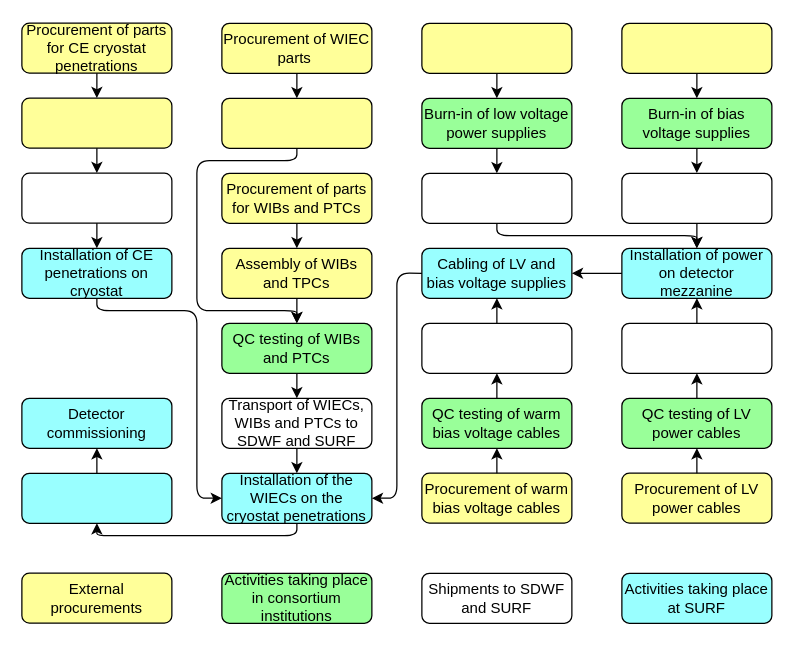
This 794x648 diagram has some shape labels left out. The shapes that lost their labels are listed below. From the top down, each one's centre as x and y in pixels, then its label:
At [496,47]: "Procurement of low voltage power supplies".
At [696,47]: "Procurement of bias voltage supplies".
At [96,122]: "Assembly of parts of CE cryostat penetrations".
At [296,122]: "Assembly of WIEC".
At [96,197]: "Transport of CE cryostat penetrations to SDWF and SURF".
At [496,197]: "Shipment of LV power supplies to SDWF and SURF".
At [696,197]: "Shipment of bias voltage supplies to SDWF and SURF".
At [496,347]: "Transport of warm bias voltage cables to SDWF and SURF".
At [696,347]: "Transport of LV power cables to SDWF and SURF".
At [96,497]: "Connection of cold cables from APAs to the WIECs".
